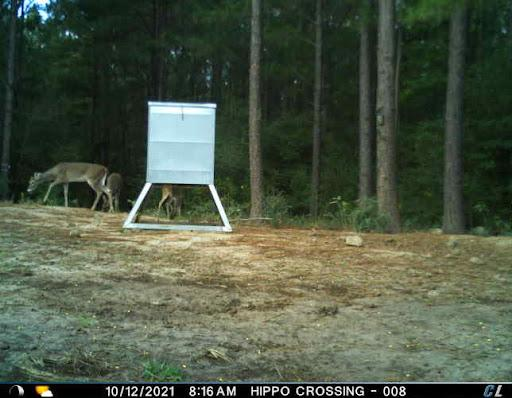Deer: (26, 157, 118, 217), (104, 166, 125, 218), (157, 187, 189, 220)
